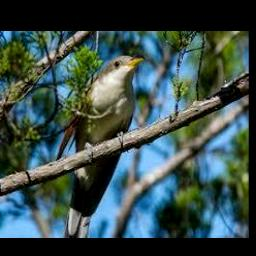Cuckoo: (55, 55, 146, 238)
